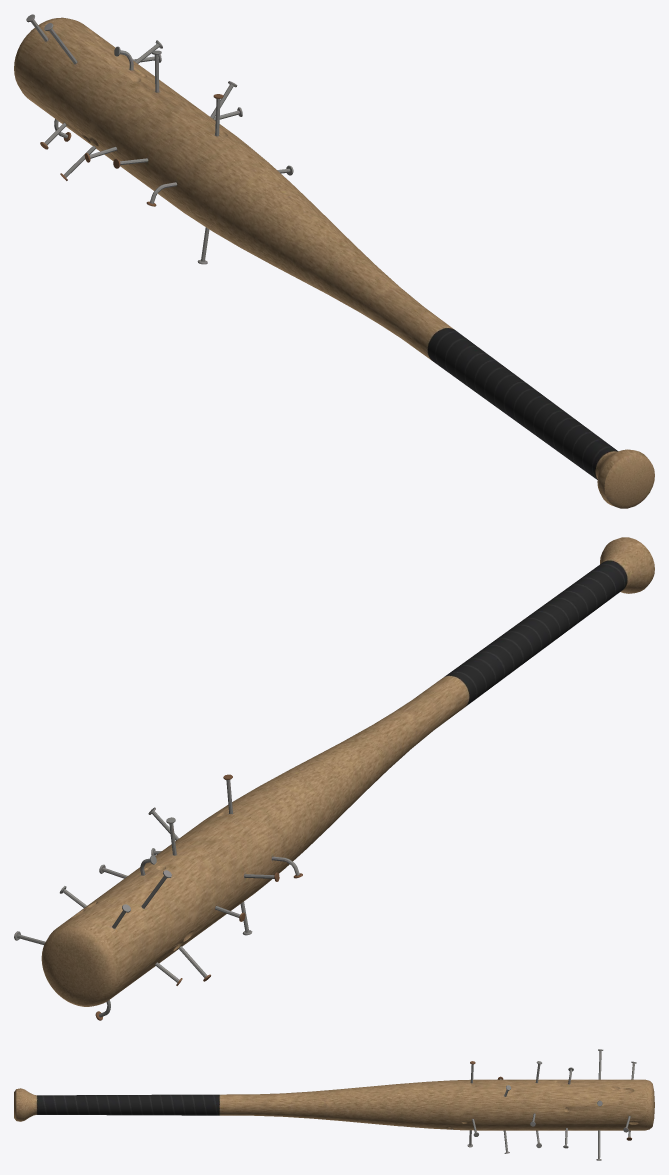
Rendered from bastao_pregos_leve.glb.
3 views of the same model, one above another, from view 1: azimuth 30°, elevation 25°; view 2: azimuth 150°, elevation 25°; view 3: azimuth 270°, elevation 25° (orthographic). The views are drawn at different scales.
Parts seen in each view (by area): view 1: bastao_pregos_leve; view 2: bastao_pregos_leve; view 3: bastao_pregos_leve.
Part boxes in pixels (x1,y1,x2,y2): bastao_pregos_leve: [14, 14, 654, 508]; bastao_pregos_leve: [14, 537, 654, 1020]; bastao_pregos_leve: [14, 1049, 654, 1160].
Size of the model in its own units: 0.1328 by 0.1289 by 0.841.
1 material, 1 textured.
